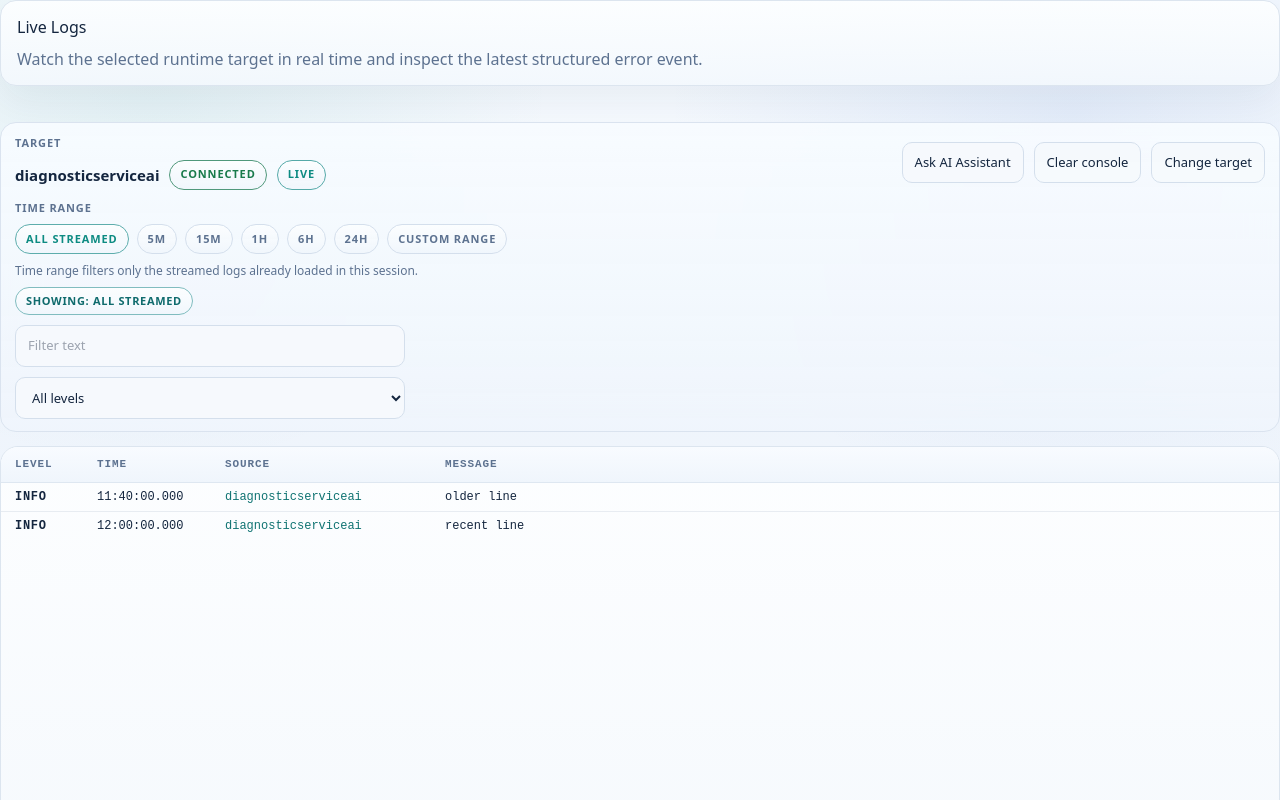
Test: LiveLogsPage › filters buffered logs by a quick time range
The image size is (1280, 800).
Click the button "15m" at (209, 239), box [185,224,233,254]
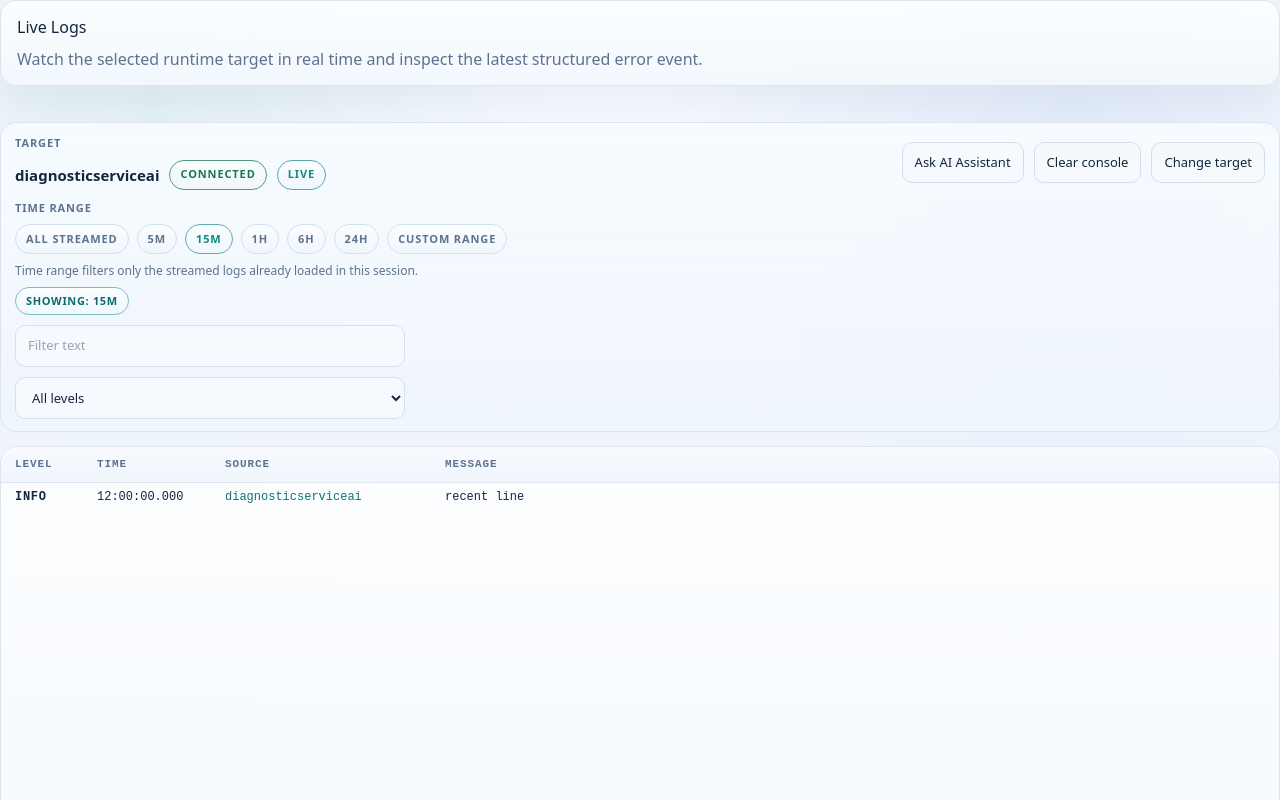
Check: the text "recent line" is shown, box [445,490,524,504]
Check: the text "older line" is gone
